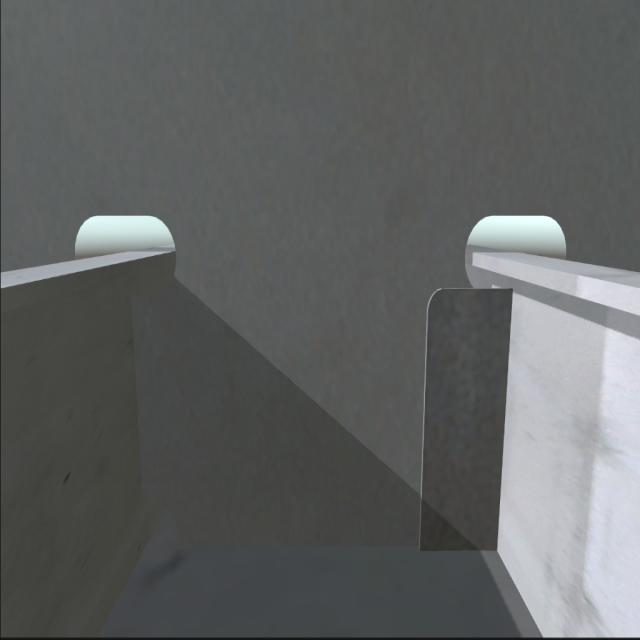fillet_hole: (143, 504, 184, 553)
fillet_yong_jeop_jang: (180, 531, 504, 560)
longi_yong_jeop_jang: (497, 280, 517, 553), (129, 280, 150, 508)
plate_CP05: (424, 286, 502, 552)
